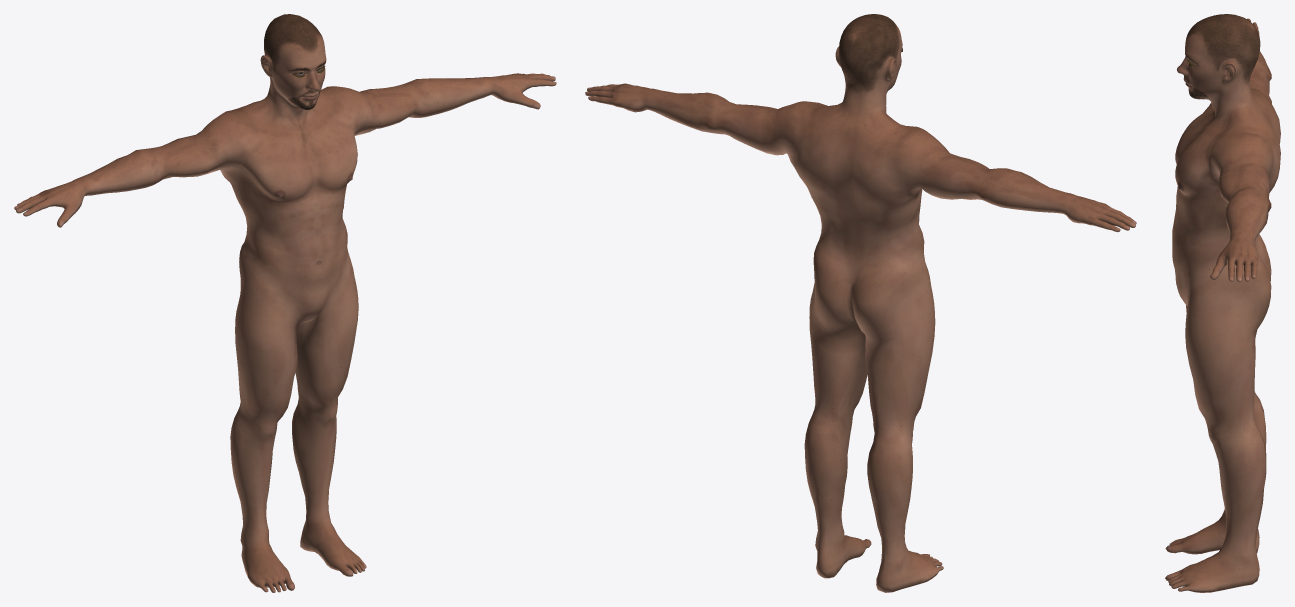
File: Angel B.obj
3 renders of one model, left to right at view 1: azimuth 30°, elevation 25°; view 2: azimuth 150°, elevation 25°; view 3: azimuth 270°, elevation 25°, orthographic.
Visible parts, largest first — view 1: Body; view 2: Body; view 3: Body.
Boxes of the visible parts, left/top/right/bottom form: Body: left=14, top=14, right=556, bottom=592; Body: left=585, top=14, right=1136, bottom=592; Body: left=1165, top=14, right=1280, bottom=592.
Size of the model in its own units: 193 by 188 by 35.75.
1 material, 1 textured.
